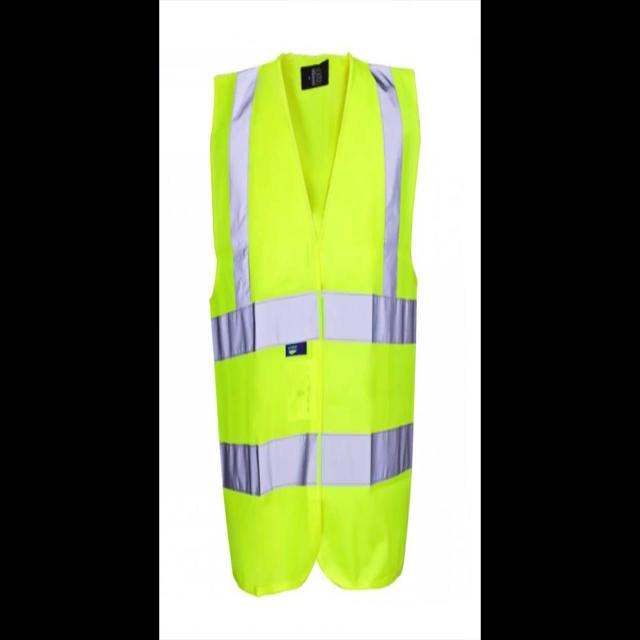Reflective-Jacket: (192, 36, 434, 606)
